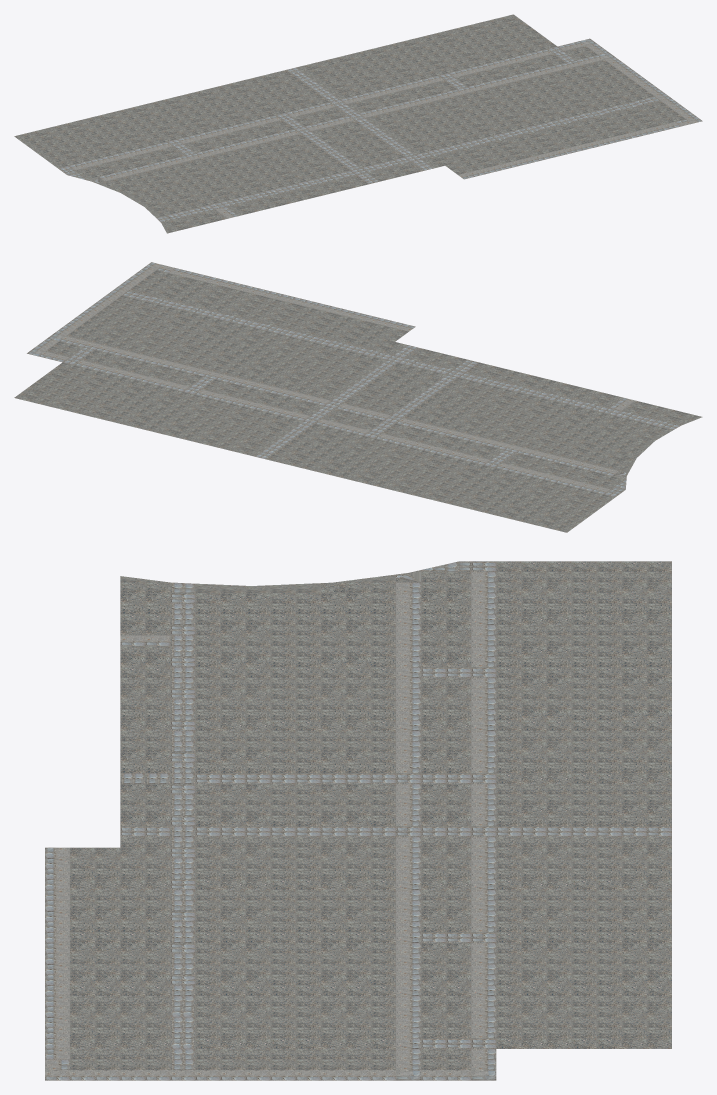
Rendered from Ground02.fbx.
3 renders of one model, top to bottom at view 1: azimuth 30°, elevation 25°; view 2: azimuth 150°, elevation 25°; view 3: azimuth 270°, elevation 25°, orthographic. The views are drawn at different scales.
Visible parts, largest first — view 1: Plane.106; view 2: Plane.106; view 3: Plane.106.
Part boxes in pixels (x1,y1,x2,y2): Plane.106: (14,14,702,233); Plane.106: (14,262,702,532); Plane.106: (45,561,671,1080).
Bounding box in the file's own units: 49 × 4.07e-06 × 25.
